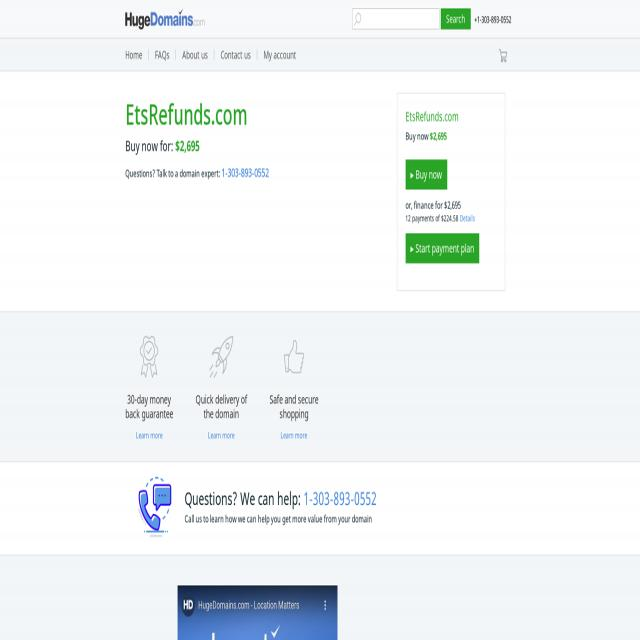button: (177, 584, 338, 640), (405, 234, 479, 263), (138, 477, 172, 537), (125, 9, 205, 29), (405, 160, 447, 189), (209, 336, 233, 378), (257, 44, 303, 65), (214, 44, 257, 65), (284, 336, 304, 378), (176, 44, 215, 65), (140, 336, 158, 378), (440, 9, 470, 29), (148, 44, 176, 65), (125, 44, 149, 65), (499, 49, 507, 63)
field: (352, 9, 440, 29)
